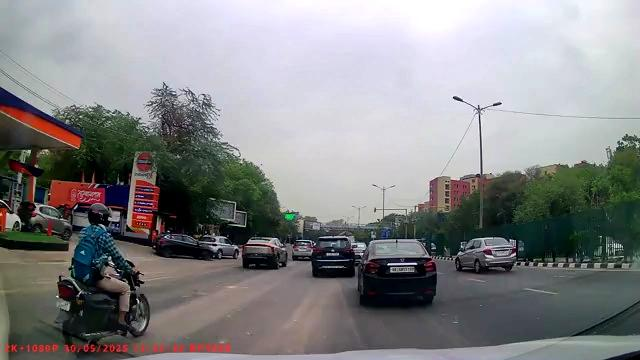motorcycle_with_helmet: (55, 201, 152, 347)
